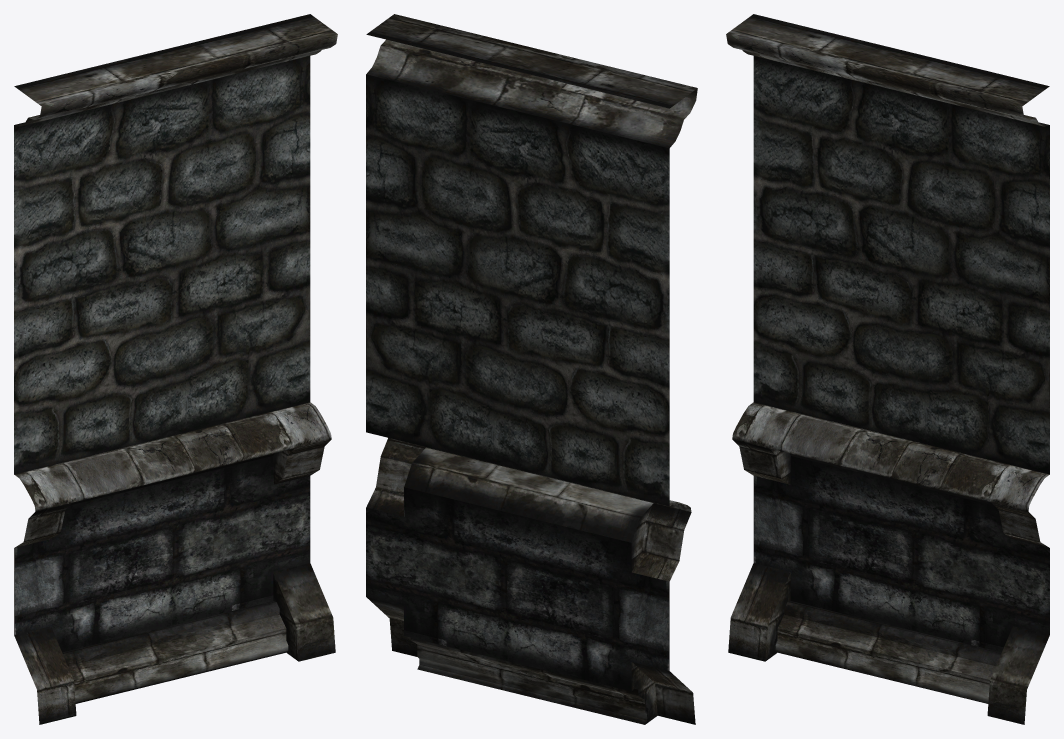
The model's file is default_short.dae.
The picture shows the model from 3 angles, left to right: view 1: azimuth 30°, elevation 25°; view 2: azimuth 150°, elevation 25°; view 3: azimuth 330°, elevation 25°; orthographic projection. The views are drawn at different scales.
Parts seen in each view (by area): view 1: polySurface111; view 2: polySurface111; view 3: polySurface111.
Boxes of the visible parts, bbox=[...] form: polySurface111: bbox=[14, 14, 337, 724]; polySurface111: bbox=[366, 14, 697, 724]; polySurface111: bbox=[726, 14, 1049, 724].
Size of what is drawn, in the model's own units: 2 by 4 by 0.3219.
